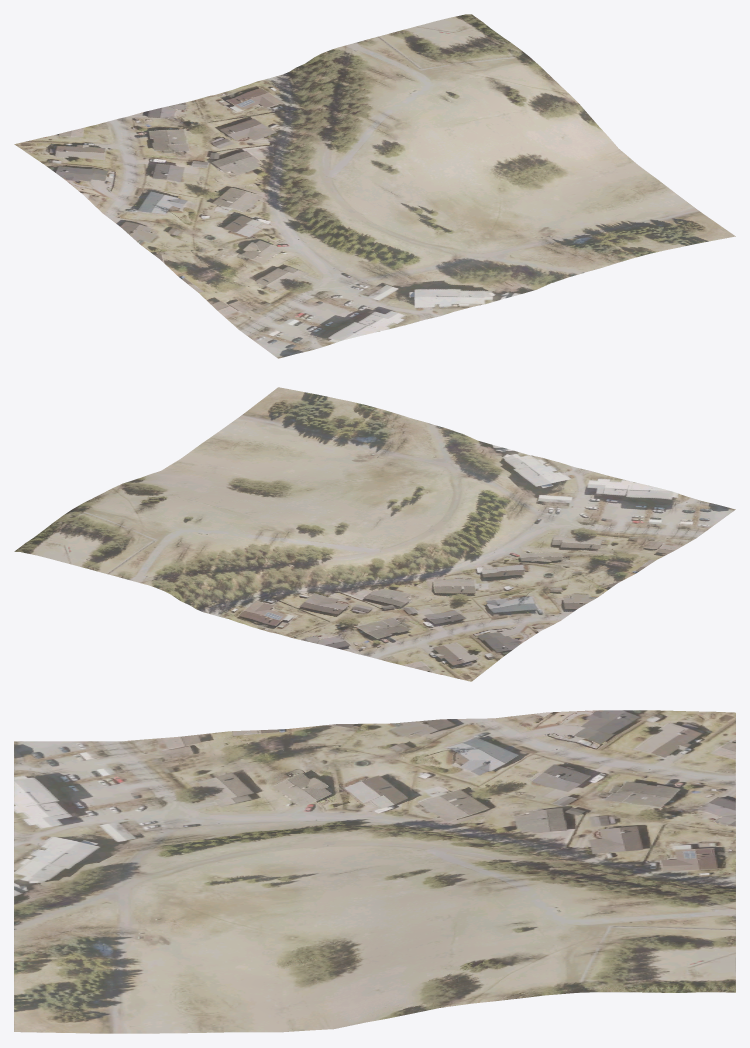
The model's file is CM_Terrain_24492711_6814879.fbx.
3 views of the same model, one above another, from view 1: azimuth 30°, elevation 25°; view 2: azimuth 150°, elevation 25°; view 3: azimuth 270°, elevation 25° (orthographic). The views are drawn at different scales.
Parts seen in each view (by area): view 1: CM_Terrain_24492711_6814879_LOD0; view 2: CM_Terrain_24492711_6814879_LOD0; view 3: CM_Terrain_24492711_6814879_LOD0.
Part boxes in pixels (x1,y1,x2,y2): CM_Terrain_24492711_6814879_LOD0: [14, 14, 735, 358]; CM_Terrain_24492711_6814879_LOD0: [14, 387, 735, 681]; CM_Terrain_24492711_6814879_LOD0: [14, 710, 735, 1033].
Size of what is drawn, in the model's own units: 205 by 17.99 by 205.
